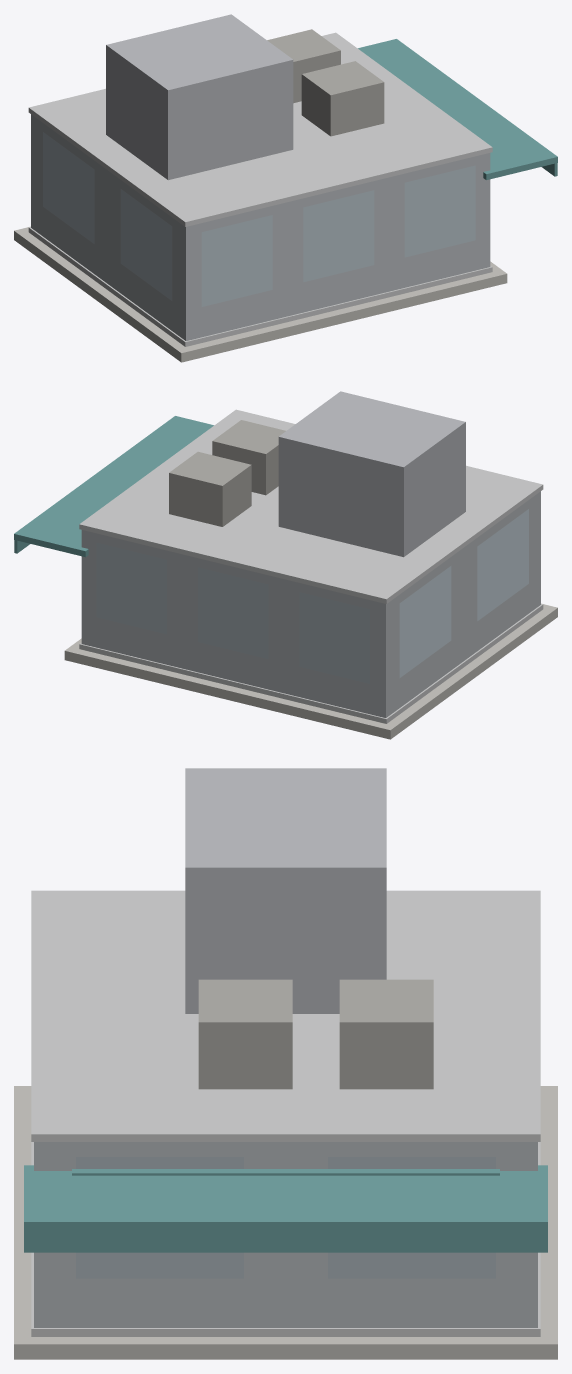
File: 11_retail_shops-05.glb
The picture shows the model from 3 angles, top to bottom: view 1: azimuth 30°, elevation 25°; view 2: azimuth 150°, elevation 25°; view 3: azimuth 270°, elevation 25°; orthographic projection. The views are drawn at different scales.
Size of the model in its own units: 10.6 by 5.98 by 8.1.
